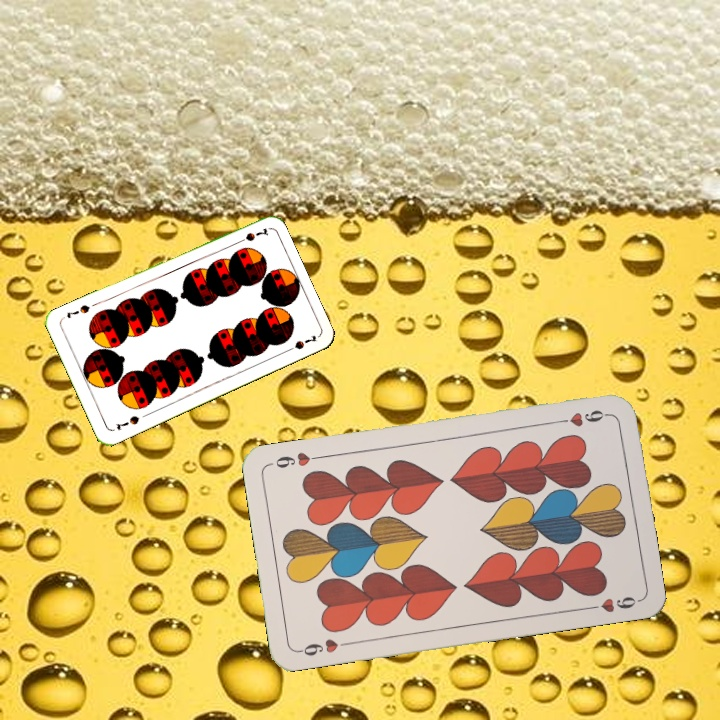H9: (294, 635, 353, 659), (553, 406, 612, 429)
S7: (231, 224, 271, 247), (111, 412, 142, 433)
